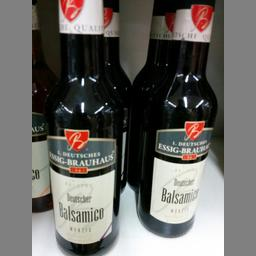vinegar: (134, 0, 220, 238), (48, 0, 122, 254)
